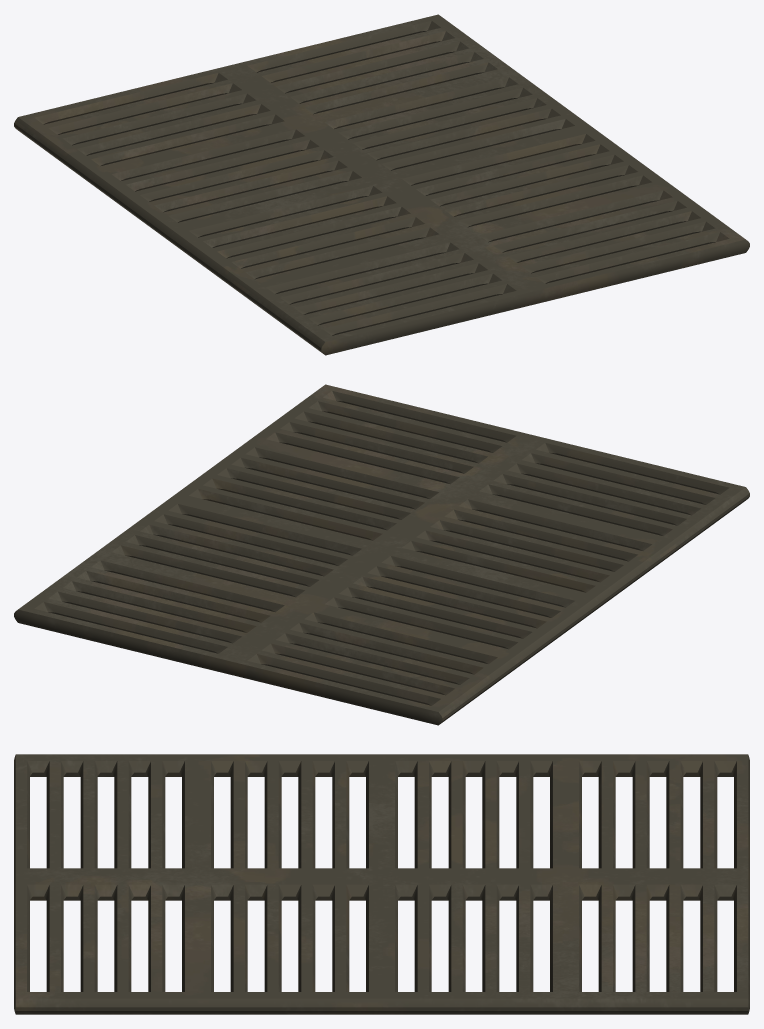
The model's file is grilaj3.fbx.
The picture shows the model from 3 angles, top to bottom: view 1: azimuth 30°, elevation 25°; view 2: azimuth 150°, elevation 25°; view 3: azimuth 270°, elevation 25°; orthographic projection. The views are drawn at different scales.
Parts seen in each view (by area): view 1: Plane.001; view 2: Plane.001; view 3: Plane.001.
Boxes of the visible parts, x1=… form: Plane.001: x1=14, y1=14, x2=749, y2=355; Plane.001: x1=14, y1=384, x2=749, y2=725; Plane.001: x1=14, y1=754, x2=749, y2=1014.
Size of the model in its own units: 1 by 0.0299 by 1.25.
Materials: 1 (1 with a texture image).
